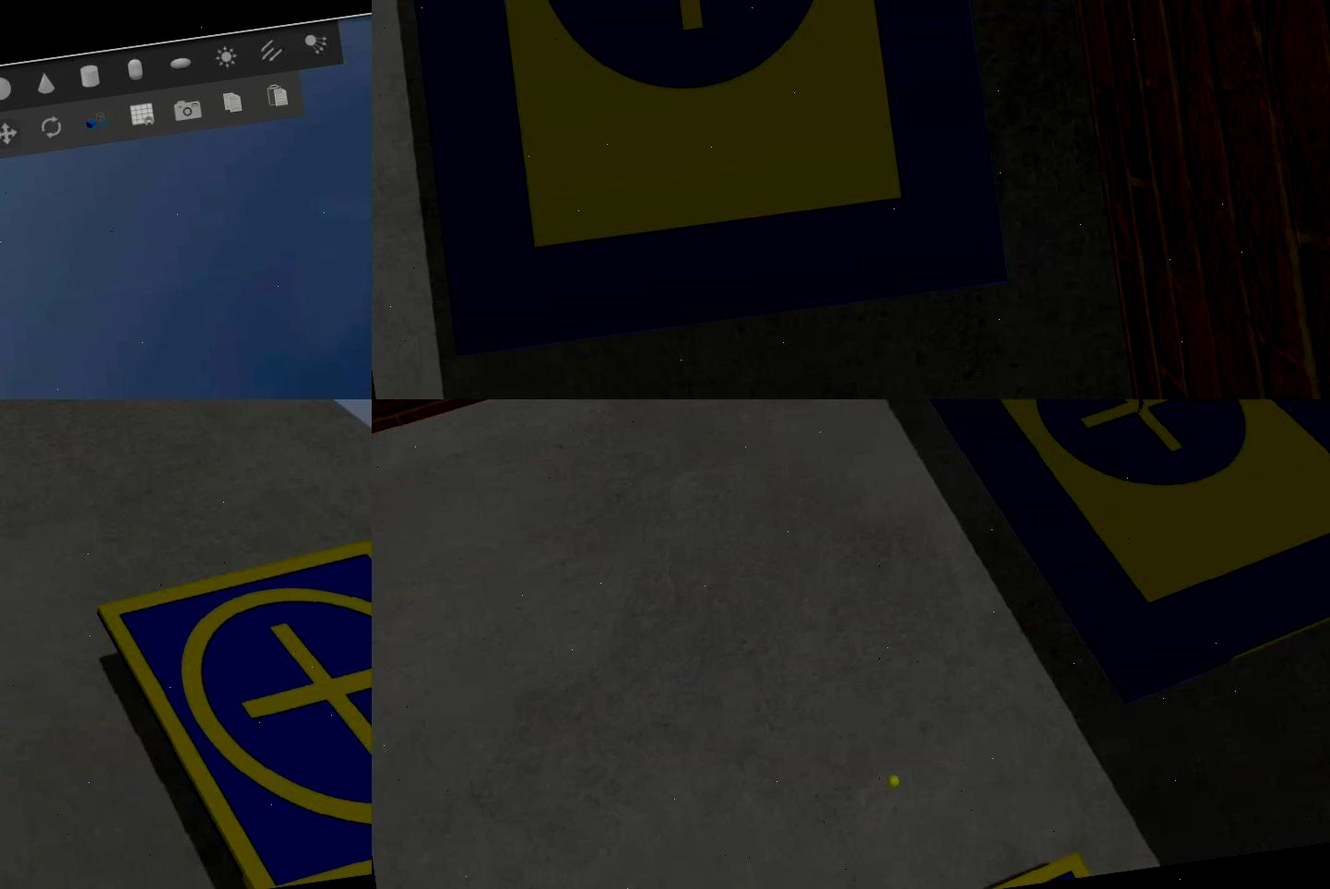large_base: (378, 1, 1008, 365), (866, 400, 1330, 731)
small_base: (95, 516, 373, 889)
